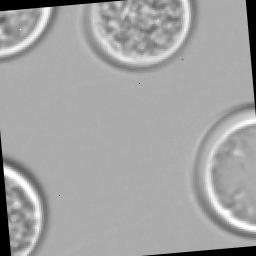picoshell: (193, 103, 256, 236), (83, 0, 194, 69), (2, 157, 46, 256), (0, 6, 53, 58)
